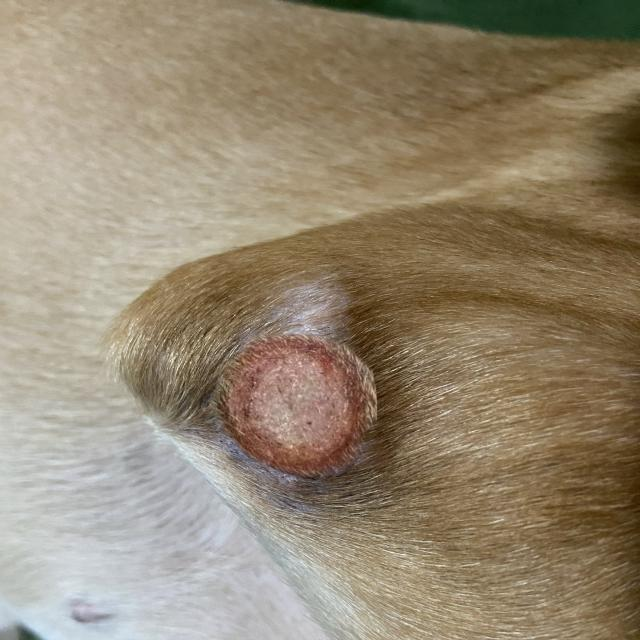ringworm: (197, 342, 407, 480)
